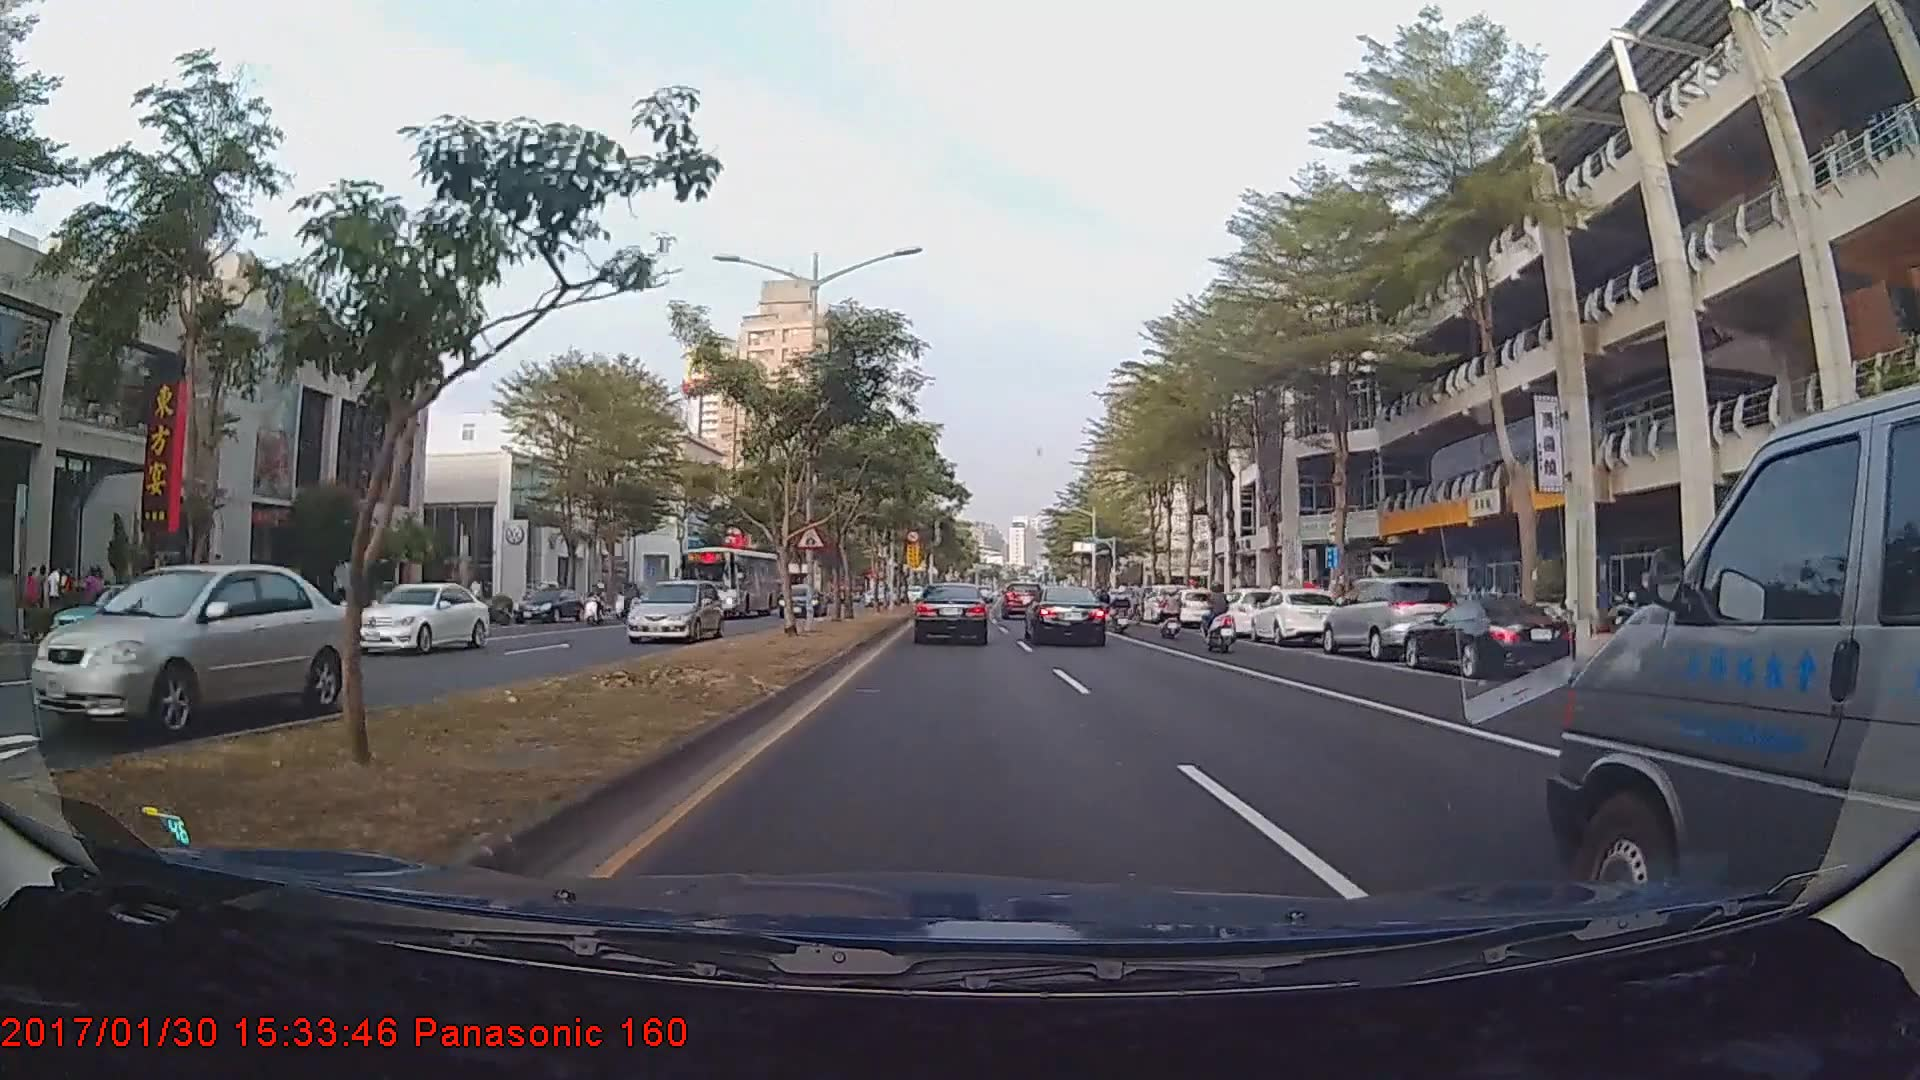rider: (1194, 582, 1245, 658), (1149, 589, 1198, 646), (581, 580, 613, 630), (1109, 586, 1135, 640)
vehicle: (1563, 394, 1915, 902), (27, 561, 352, 736), (1402, 598, 1581, 681), (1323, 571, 1466, 661), (343, 583, 490, 658), (682, 547, 779, 622), (625, 579, 723, 646), (1248, 586, 1345, 644), (1025, 584, 1108, 647), (914, 583, 989, 645), (1210, 587, 1285, 639), (1163, 587, 1218, 626), (776, 584, 823, 619), (1004, 577, 1046, 615)
